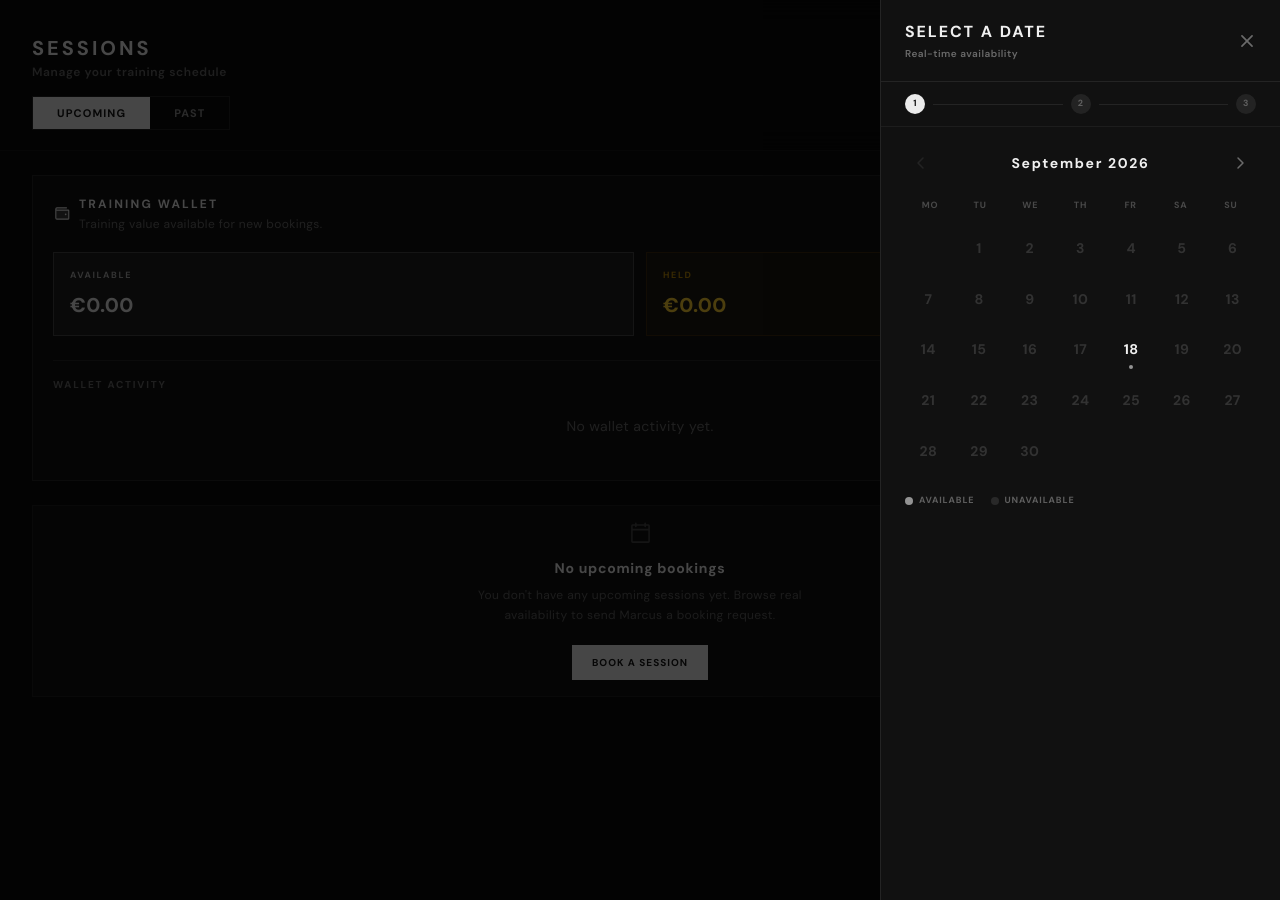
Test case: Sessions booking integration › submits a real booking once and refreshes persisted state
Earlier steps of the test are not shown.
Expected: the element with test id "booking-sheet" is shown, [880,0,1279,899]
Click the button "18" at (1131, 349), box [1108,326,1154,373]
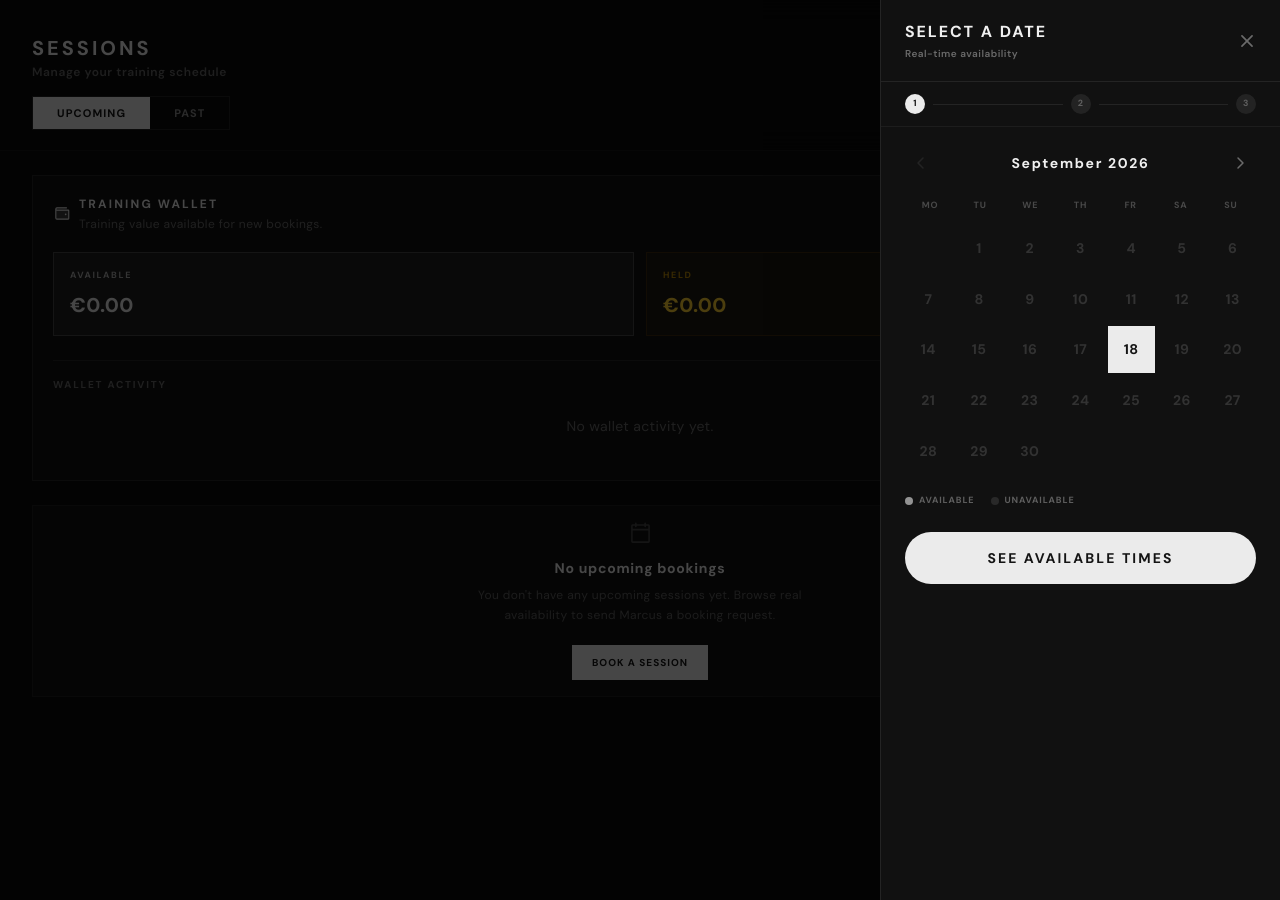
Click the button "See Available Times" at (1080, 558), box [905,532,1256,584]
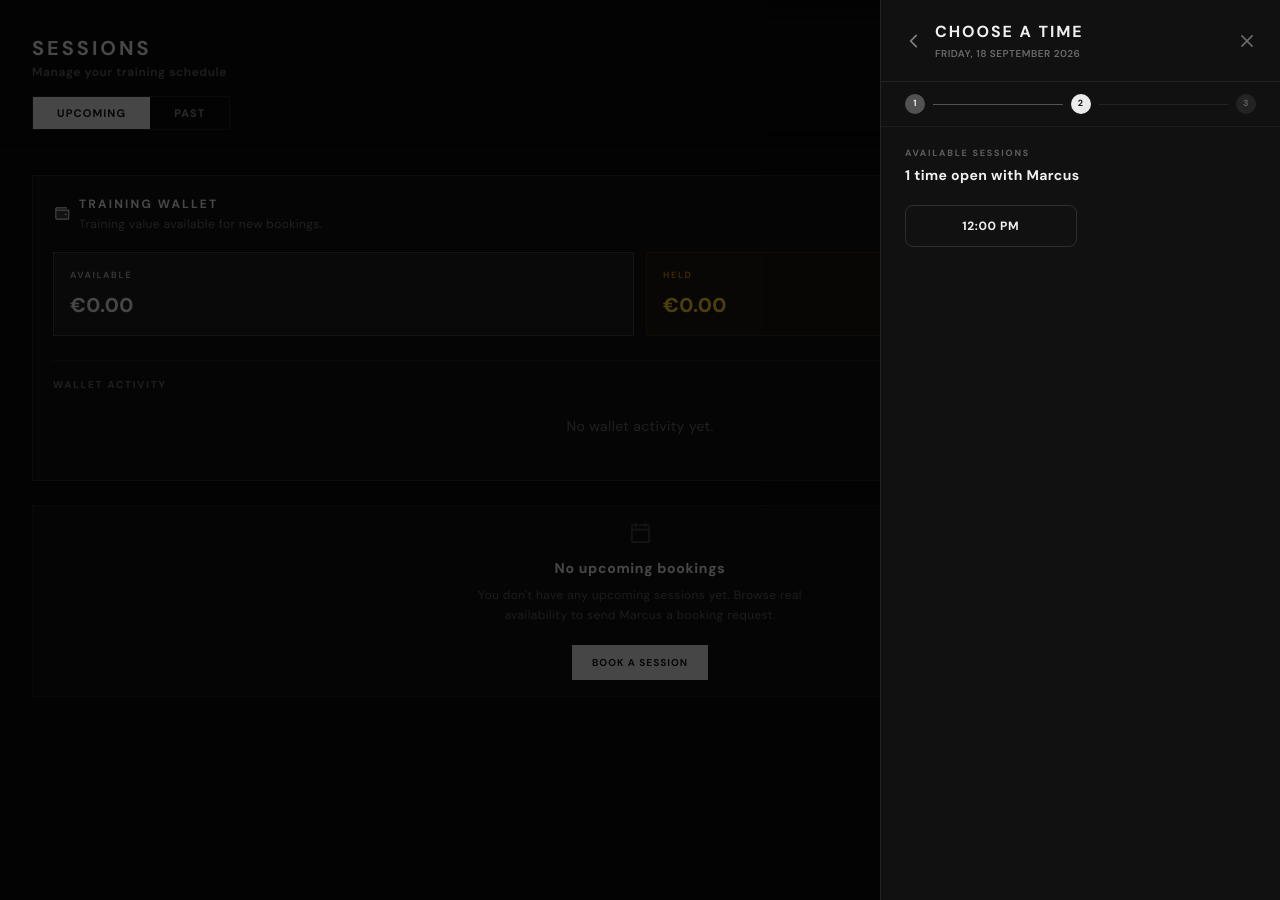
Click the button "12:00 PM" at (991, 226), box [905,204,1076,246]
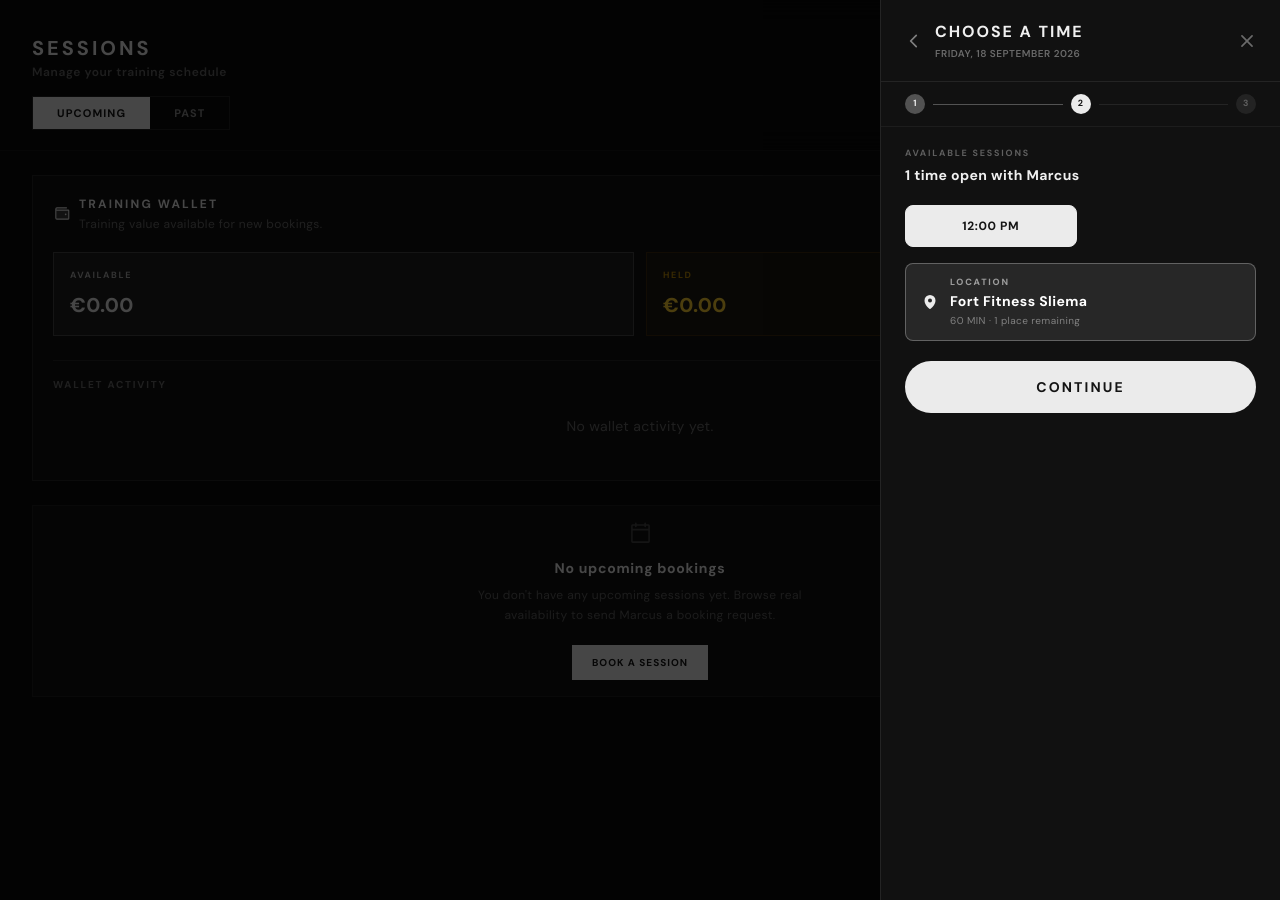
Click the button "Continue" at (1080, 387), box [905,361,1256,413]
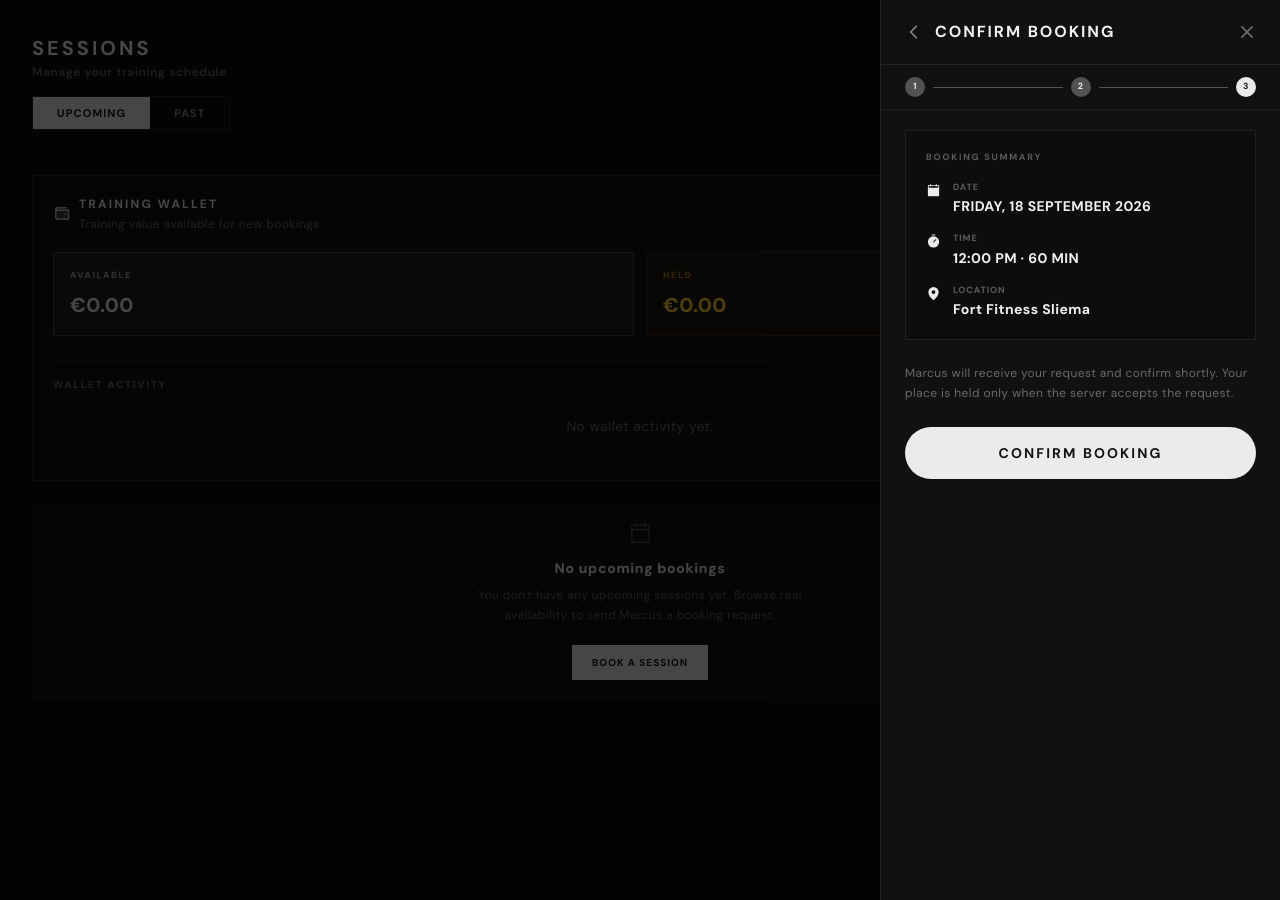
Now the button with test id "confirm-booking-button" is shown
Click the button with test id "confirm-booking-button" at (1080, 453), box [905,427,1256,479]
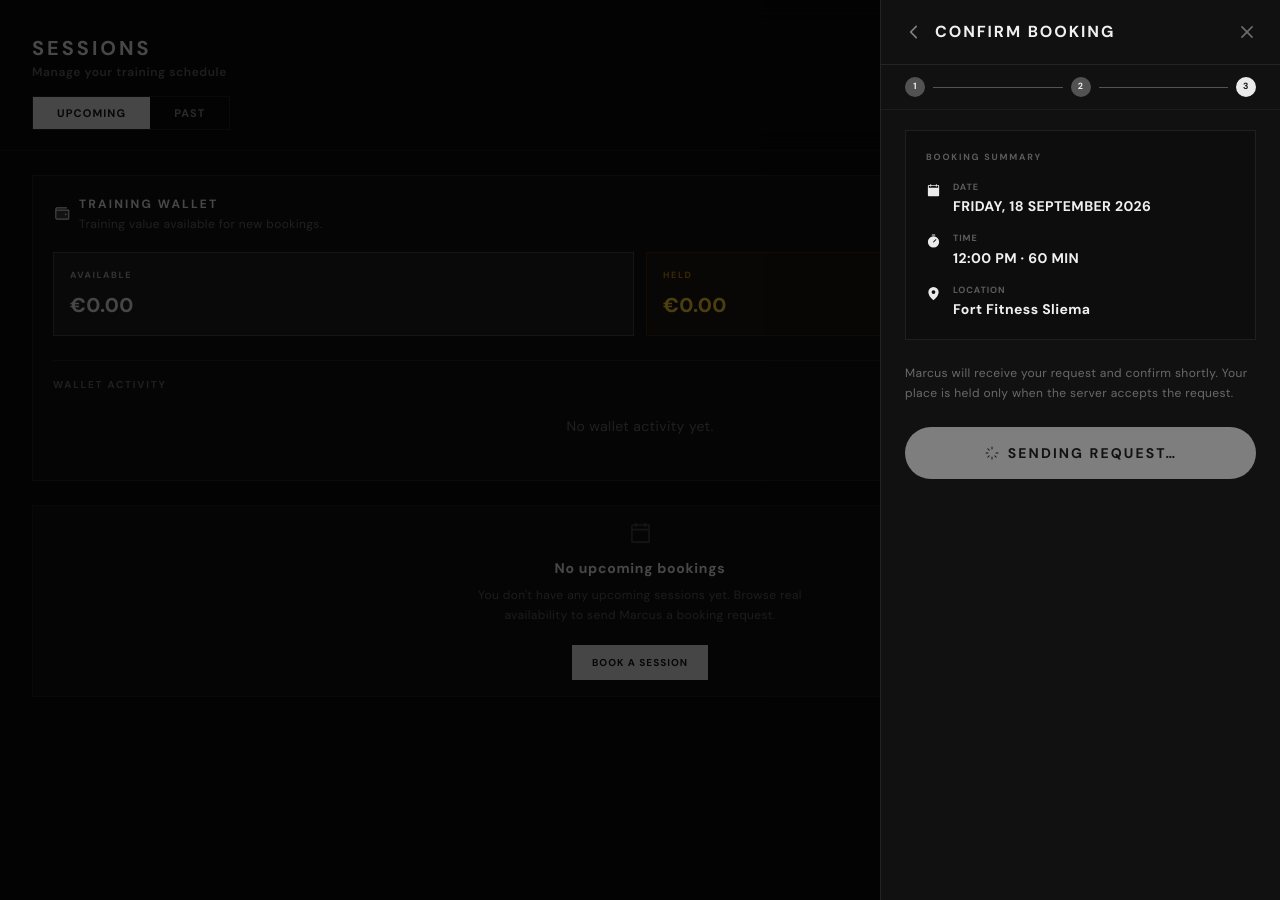
Click the button with test id "confirm-booking-button" at (1080, 453), box [905,427,1256,479]
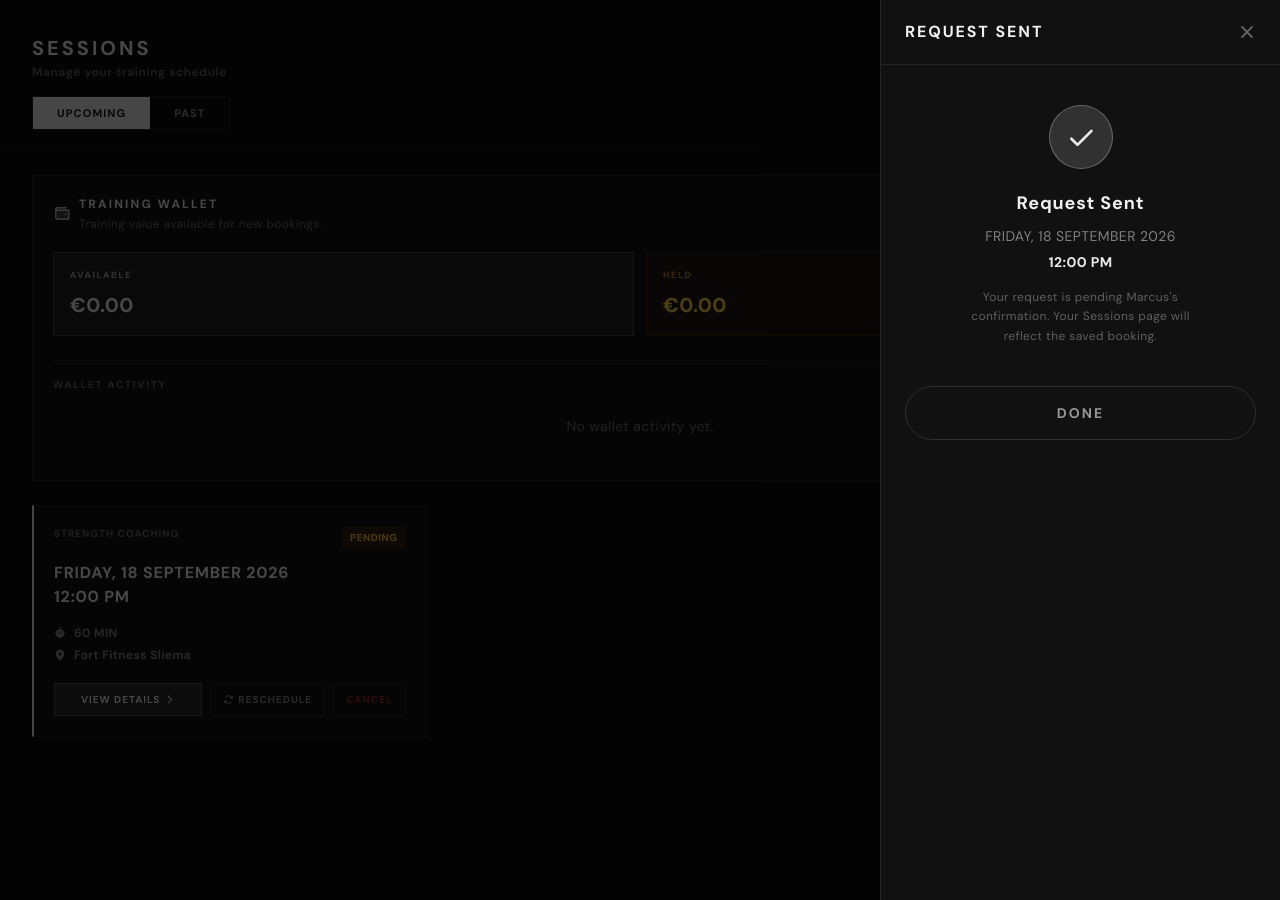
Now the 1st heading "Request Sent" is shown, box [905,20,1043,44]
